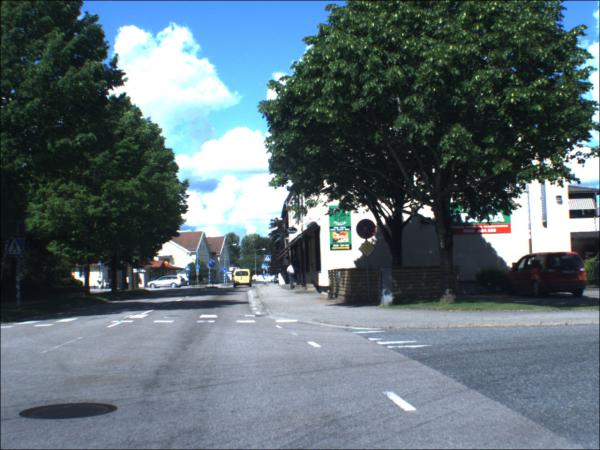NO_STOPPING_NO_STANDING: (357, 220, 379, 241)
PASS_RIGHT_SIDE: (210, 261, 217, 269), (223, 269, 228, 275)
PEDESTRIAN_CROSSING: (7, 240, 27, 260), (266, 256, 273, 264), (262, 265, 268, 271), (187, 268, 192, 273)
PRIORITY_ROAD: (359, 241, 377, 259)
